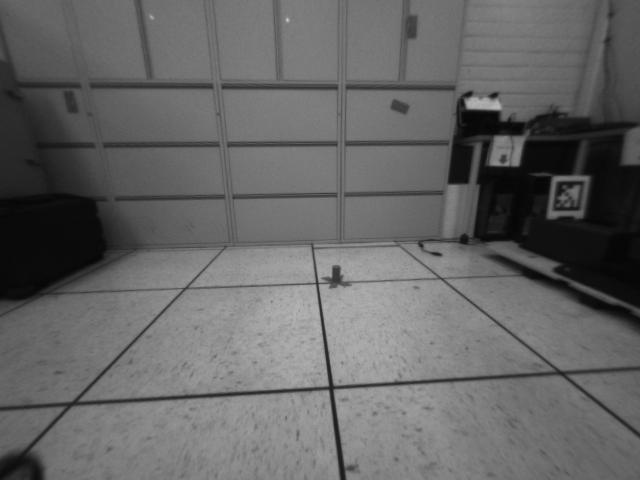X: (321, 264, 355, 289)
